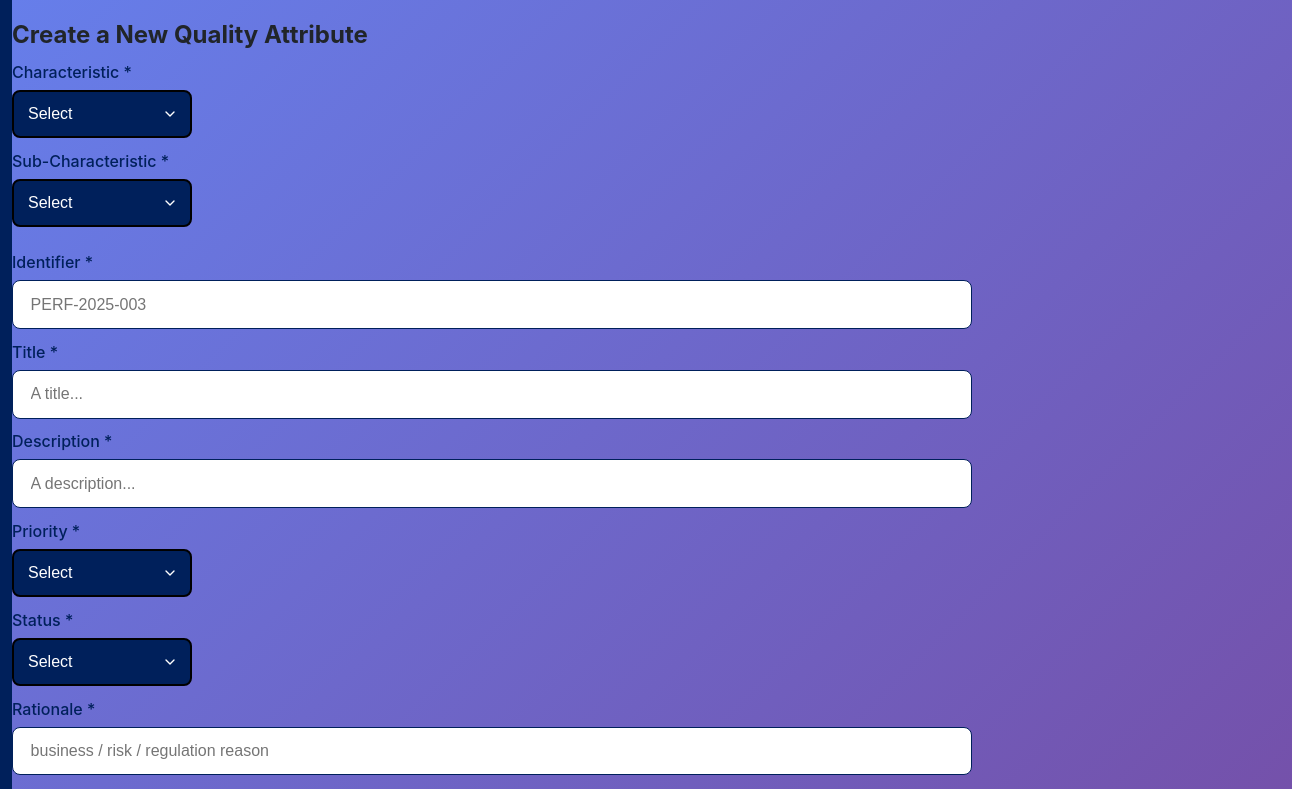
RequirementForm › loads types for a category and fetches the next identifier
Select "Performance" in the dropdown labelled "Characteristic *": (102, 114) [12,90,192,138]
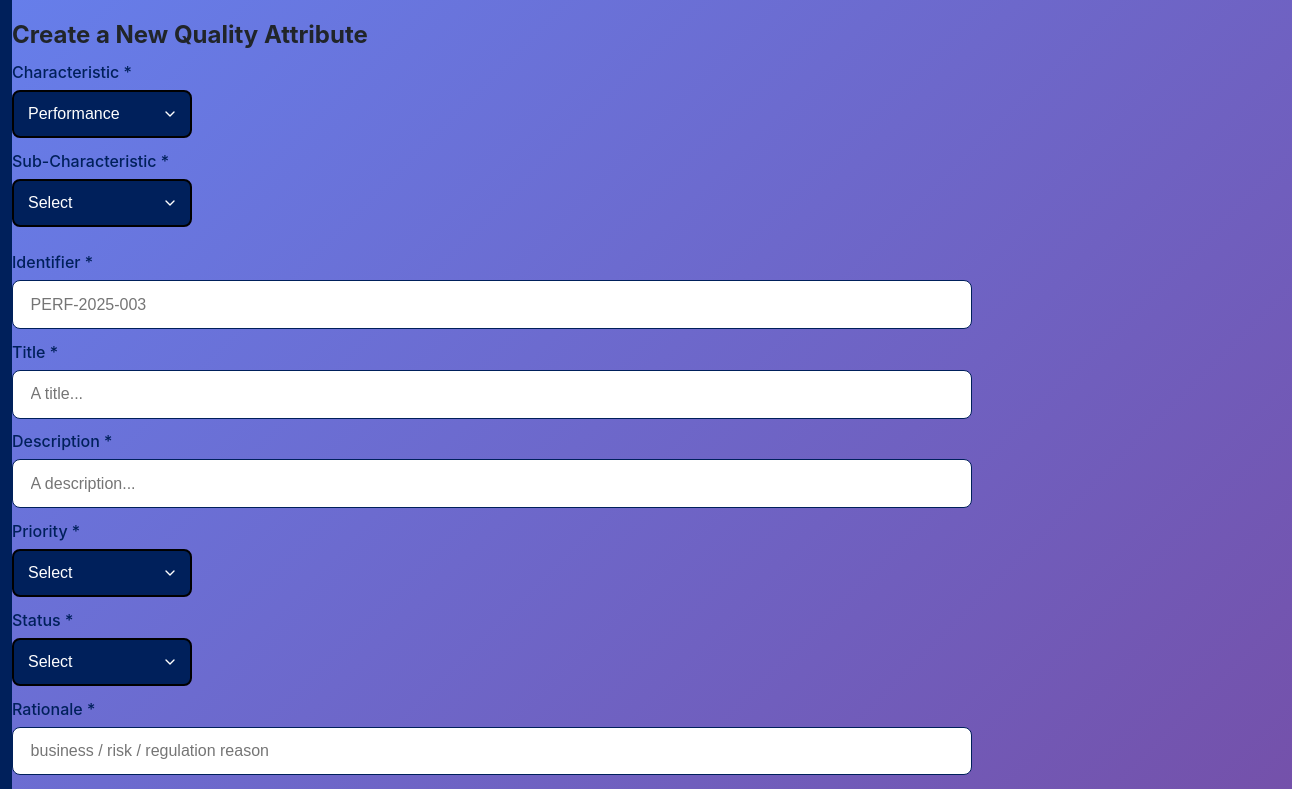
Select "Time Behaviour" in the dropdown labelled "Sub-Characteristic *": (102, 203) [12,179,192,227]
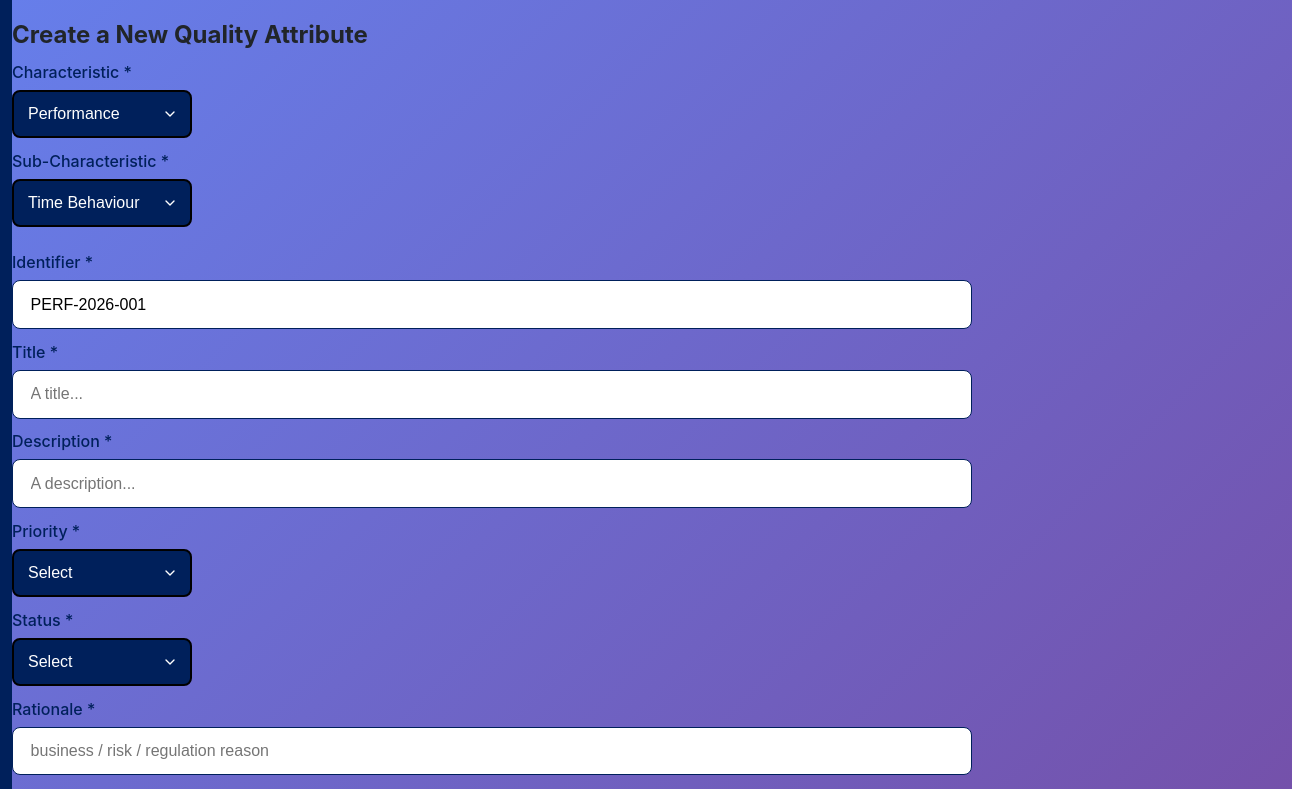
Expected: the field labelled "Identifier *" holds "PERF-2026-001", [12,280,972,329]
